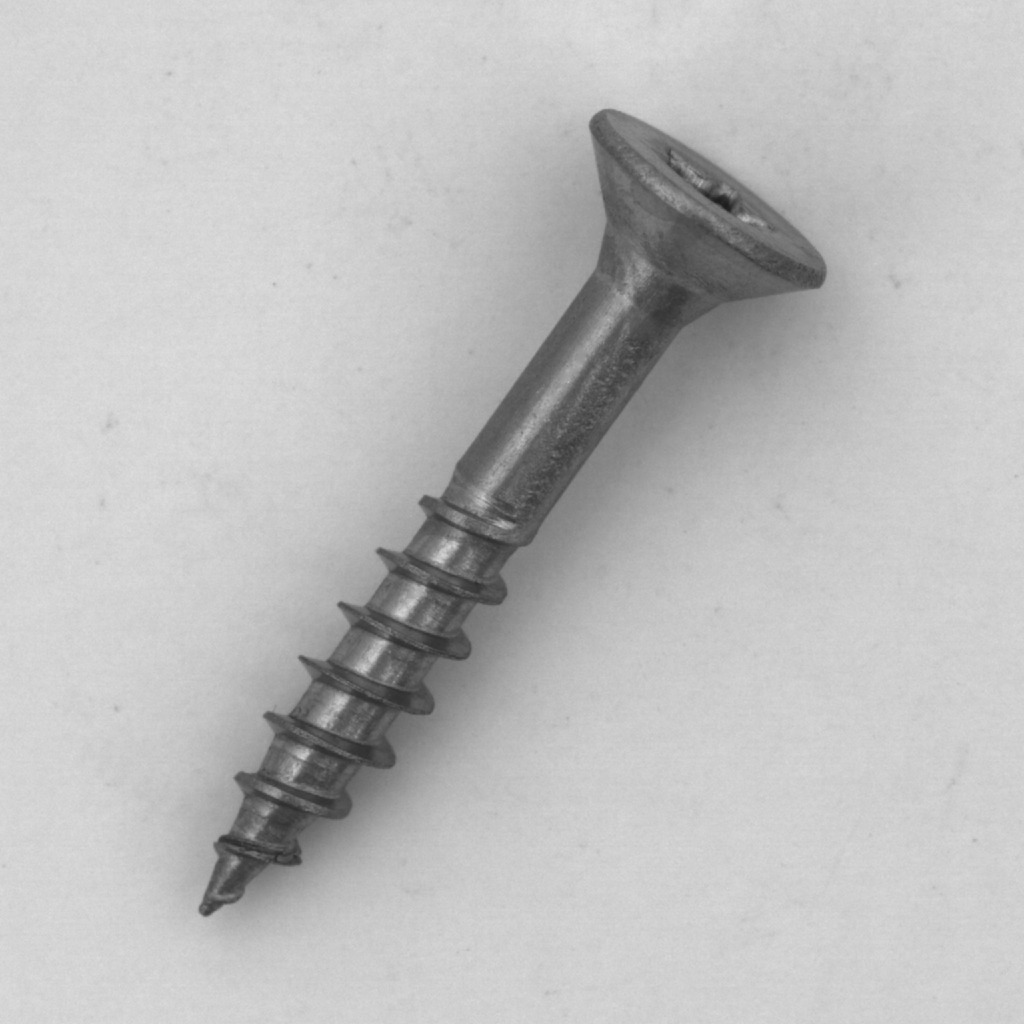good: (166, 94, 851, 939)
